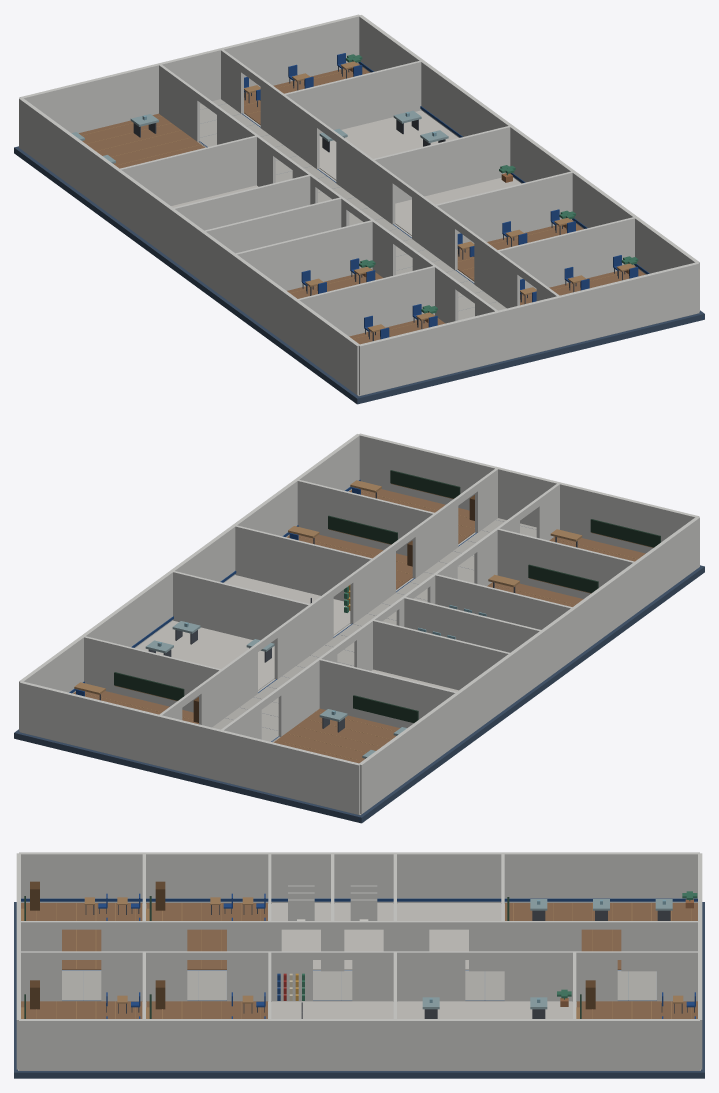
File: pavimento-2.glb
The picture shows the model from 3 angles, top to bottom: view 1: azimuth 30°, elevation 25°; view 2: azimuth 150°, elevation 25°; view 3: azimuth 270°, elevation 25°; orthographic projection.
Parts seen in each view (by area): view 1: structure, floors, furniture; view 2: structure, floors, furniture; view 3: structure, floors, furniture.
Part boxes in pixels (<box>): structure: <box>19,14,699,395</box>; floors: <box>14,67,704,404</box>; furniture: <box>71,53,638,340</box>; structure: <box>19,433,699,814</box>; floors: <box>14,489,704,823</box>; furniture: <box>74,470,660,758</box>; structure: <box>16,852,702,1070</box>; floors: <box>14,902,704,1078</box>; furniture: <box>21,881,697,1018</box>.
Size of the model in its own units: 22.55 by 3.47 by 38.55.
